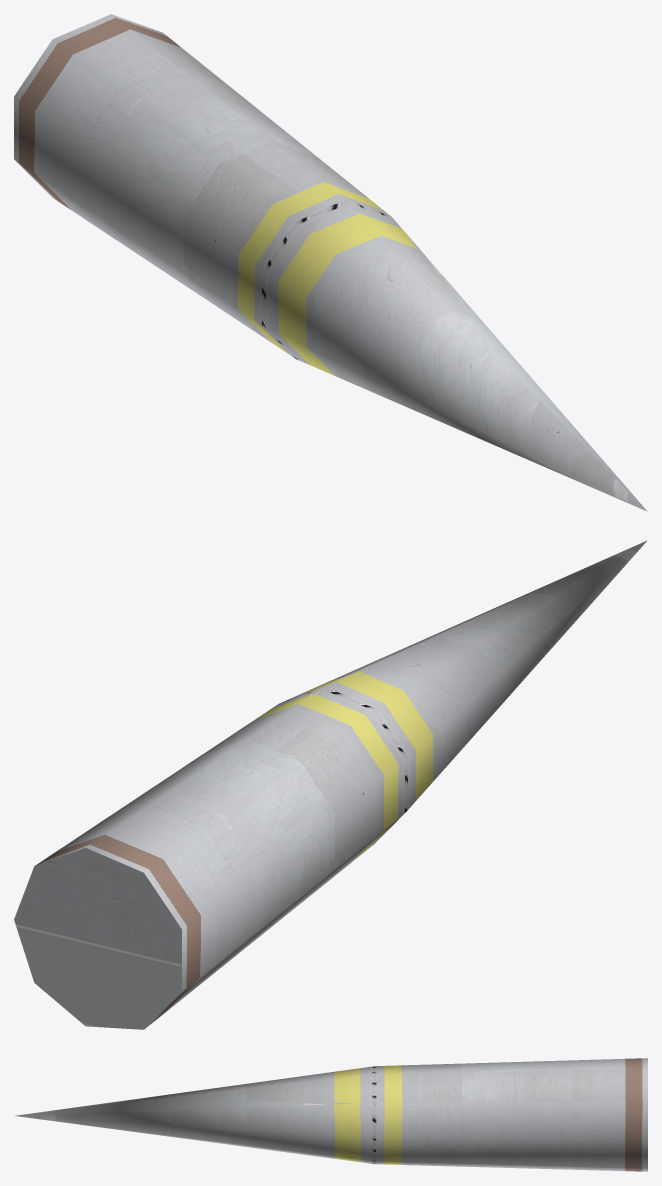
Rendered from Bullet.fbx.
3 renders of one model, top to bottom at view 1: azimuth 30°, elevation 25°; view 2: azimuth 150°, elevation 25°; view 3: azimuth 270°, elevation 25°, orthographic. The views are drawn at different scales.
Parts seen in each view (by area): view 1: Bulet; view 2: Bulet; view 3: Bulet.
Boxes of the visible parts, bbox=[...] form: Bulet: bbox=[14, 14, 647, 511]; Bulet: bbox=[14, 540, 647, 1029]; Bulet: bbox=[14, 1058, 647, 1171].
Bounding box in the file's own units: 2.11 × 2.15 × 11.91.
Materials: 1 (1 with a texture image).
